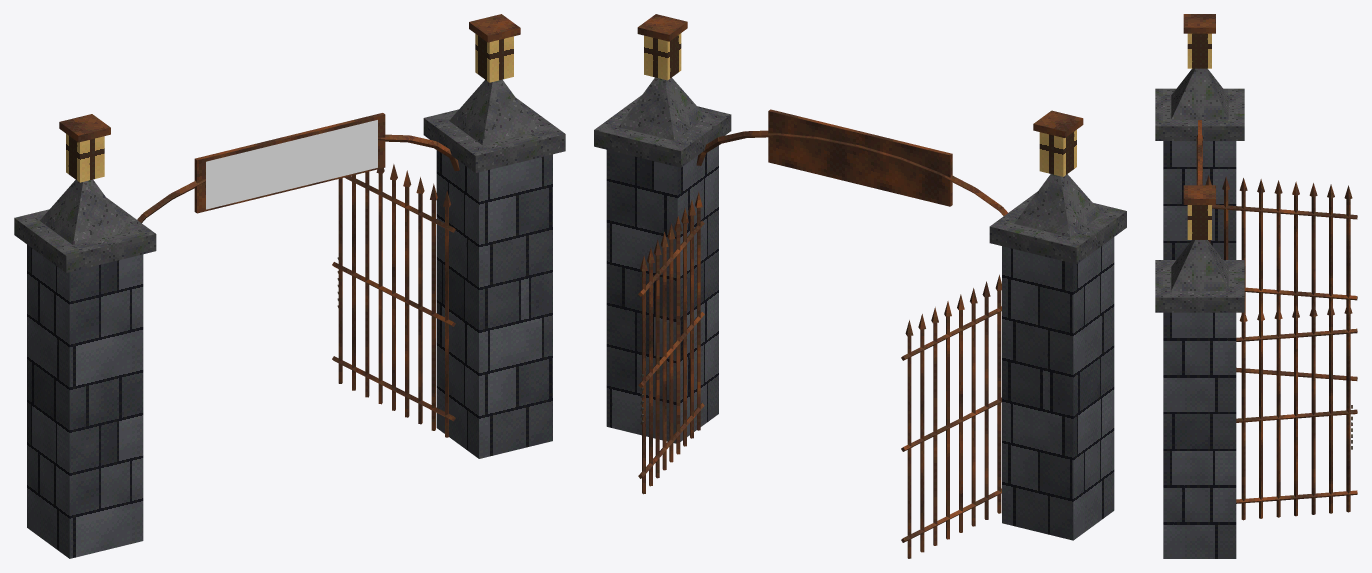
The model's file is puerta_dique_abierta.obj.
The picture shows the model from 3 angles, left to right: view 1: azimuth 30°, elevation 25°; view 2: azimuth 150°, elevation 25°; view 3: azimuth 270°, elevation 25°; orthographic projection. The views are drawn at different scales.
Parts seen in each view (by area): view 1: puerta_dique_abierta; view 2: puerta_dique_abierta; view 3: puerta_dique_abierta.
Boxes of the visible parts, x1=… form: puerta_dique_abierta: x1=14, y1=14, x2=565, y2=558; puerta_dique_abierta: x1=594, y1=14, x2=1126, y2=558; puerta_dique_abierta: x1=1155, y1=14, x2=1357, y2=558.
Bounding box in the file's own units: 6.1 × 4.78 × 2.5.
6 materials, 5 textured.
